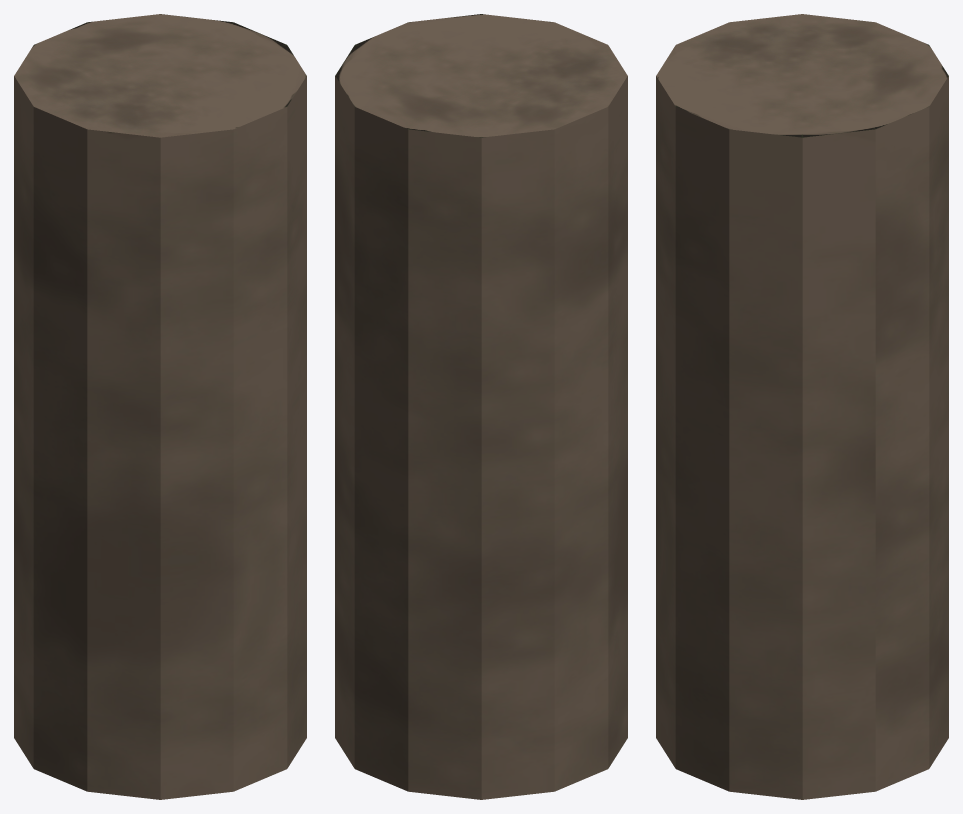
Rendered from 3DModel_StoneCylinderPiller_Halved_V1_BS.fbx.
3 views of the same model, side by side, from view 1: azimuth 30°, elevation 25°; view 2: azimuth 150°, elevation 25°; view 3: azimuth 270°, elevation 25° (orthographic).
Visible parts, largest first — view 1: Assest_StoneCylinderPiller_V1_BS; view 2: Assest_StoneCylinderPiller_V1_BS; view 3: Assest_StoneCylinderPiller_V1_BS.
Part boxes in pixels (box(x1,y1,x2,y2)): Assest_StoneCylinderPiller_V1_BS: box(14, 14, 306, 799); Assest_StoneCylinderPiller_V1_BS: box(335, 14, 627, 799); Assest_StoneCylinderPiller_V1_BS: box(656, 14, 948, 799).
Bounding box in the file's own units: 1.64 × 4.1 × 1.64.
1 material, 1 textured.
